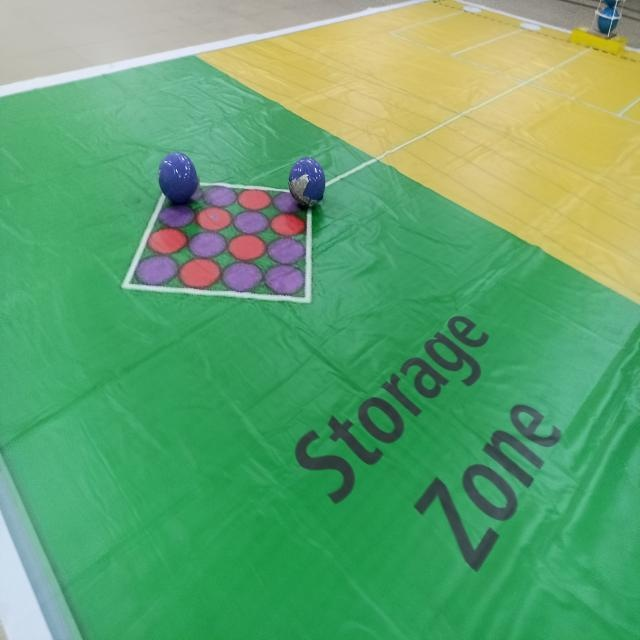purple_ball: (157, 150, 199, 207), (288, 157, 327, 212)
